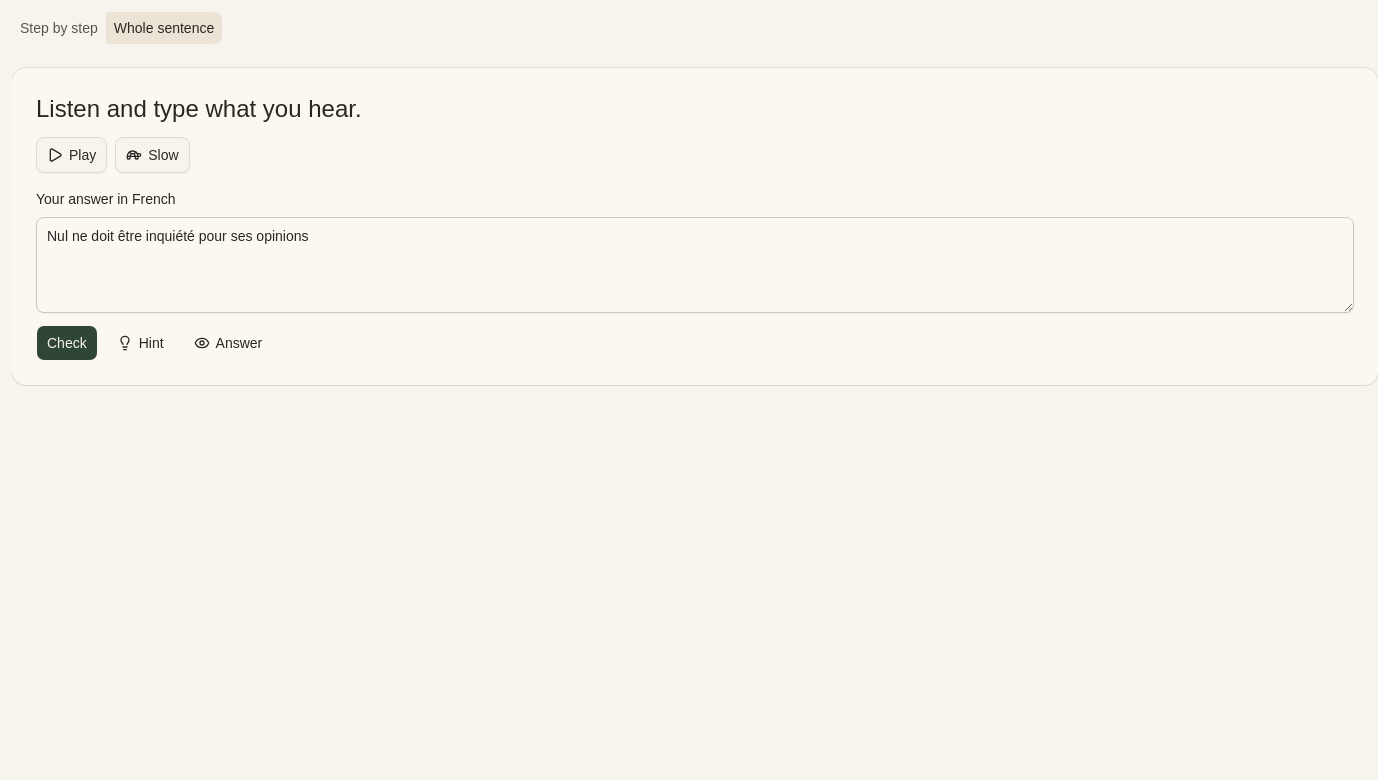
Test: Dictation perfect revealed answer › whole scope › celebrates and preserves answer-known scoring (last=false)
Click the button "Answer" at (228, 343), box [183,325,273,361]
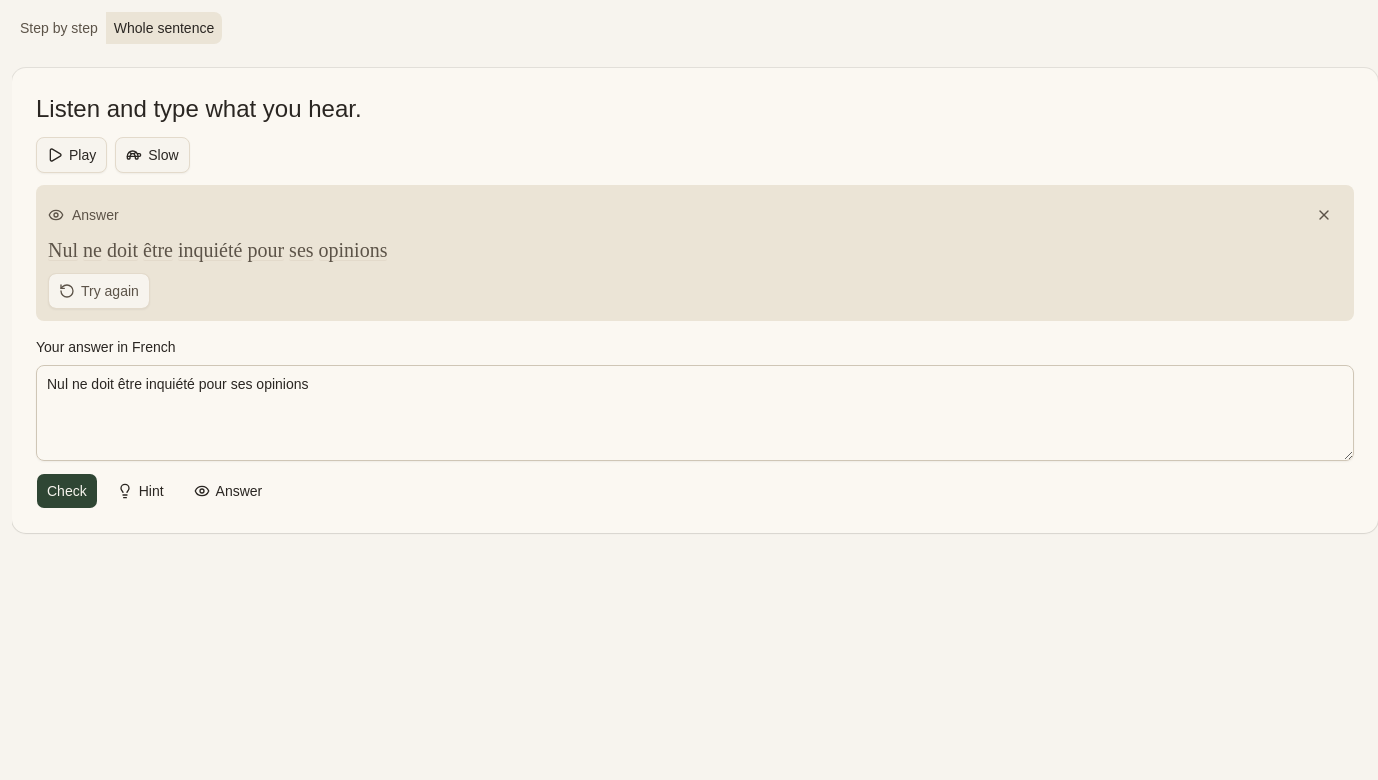
Click the button named "Hide answer" at (1324, 215), box [1306,197,1342,233]
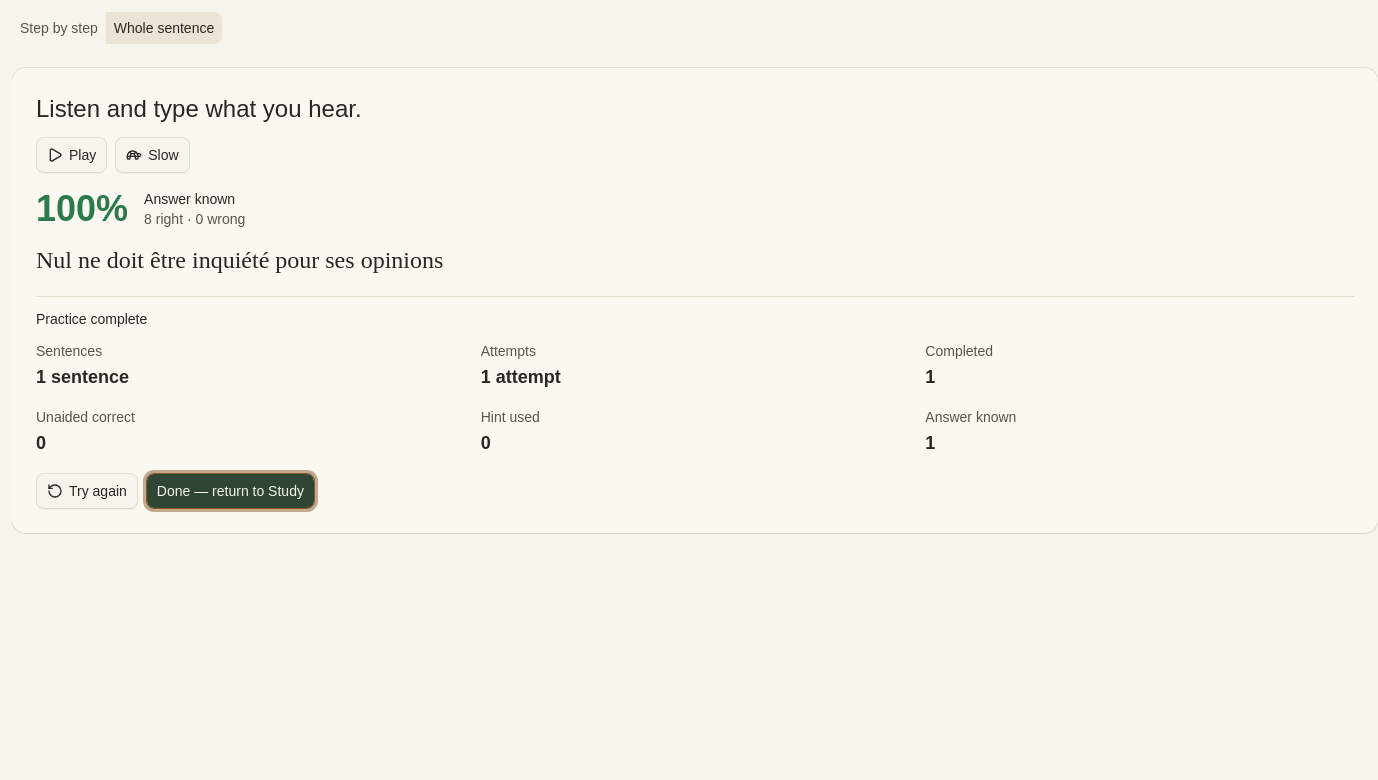
Result: the text "Nul" is shown at [36,241,72,280]
Result: the text "Answer known" is shown at [144,189,245,209]
Result: the element named "Session summary" shows "Practice complete" at [36,311,147,327]
